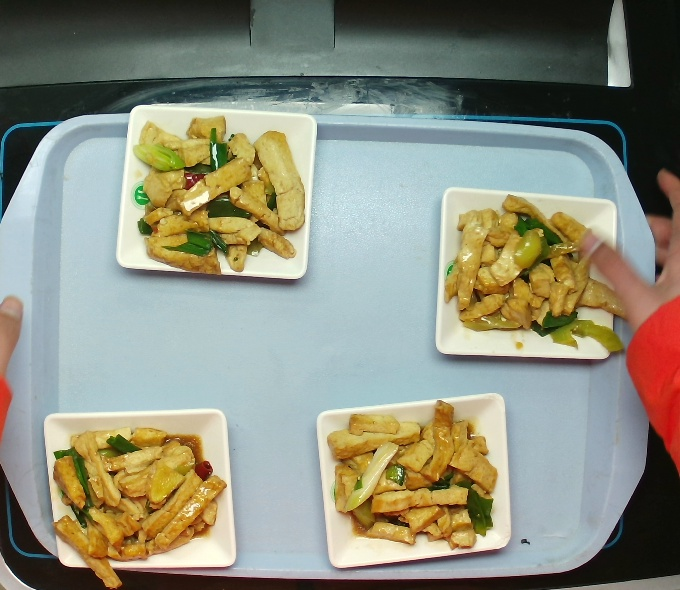wcq-SuanMiaoChaoXiangGan: (322, 400, 505, 559), (450, 195, 622, 357), (128, 124, 304, 274), (55, 426, 220, 567)
